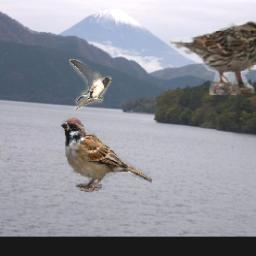Sparrow: (59, 115, 153, 194), (171, 19, 256, 95)
Swallow: (71, 59, 113, 110)
